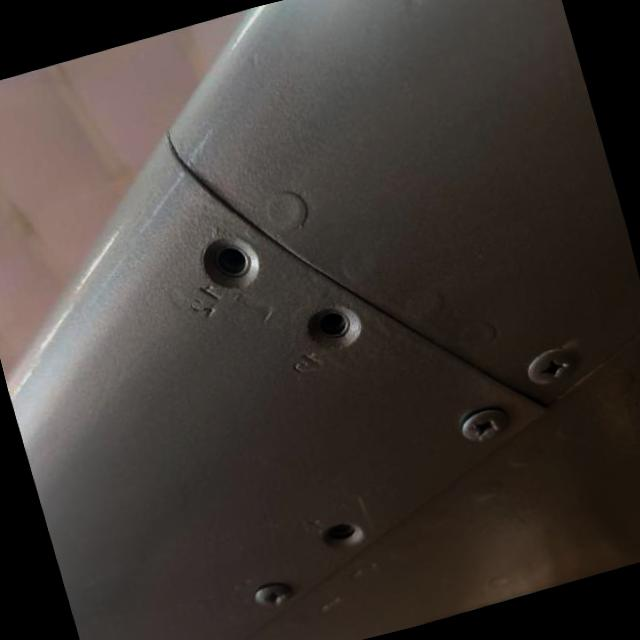Missing Fastener: (196, 230, 261, 294), (302, 301, 362, 354), (317, 518, 363, 552)
